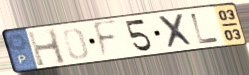0: (61, 27, 90, 60)
5: (123, 19, 154, 53)
F: (91, 18, 120, 61)
H: (25, 27, 69, 69)
L: (189, 12, 221, 46)
X: (155, 12, 197, 51)
